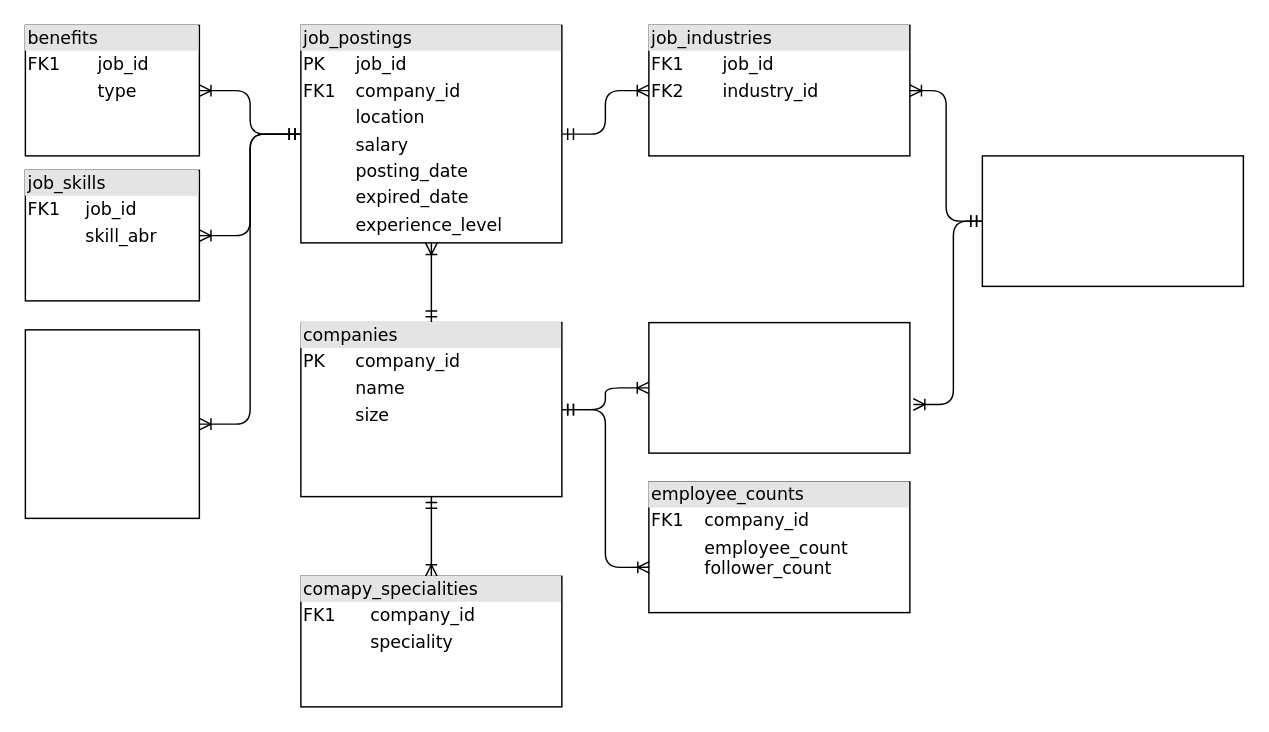
The diagram is 1269 pixels wide and 732 high, and some of its shapes have lost their labels. The shapes that lost their labels are listed below. From the top down, each one's box as (x1, y1, x2, y2) in pixels, then its label:
(981, 154, 1243, 286): industries PK1 industry_id name
(647, 321, 910, 453): company_industries FK1 company_id FK2 industry_id
(24, 328, 199, 518): job_salaries FK1 job_id min median max currency period
